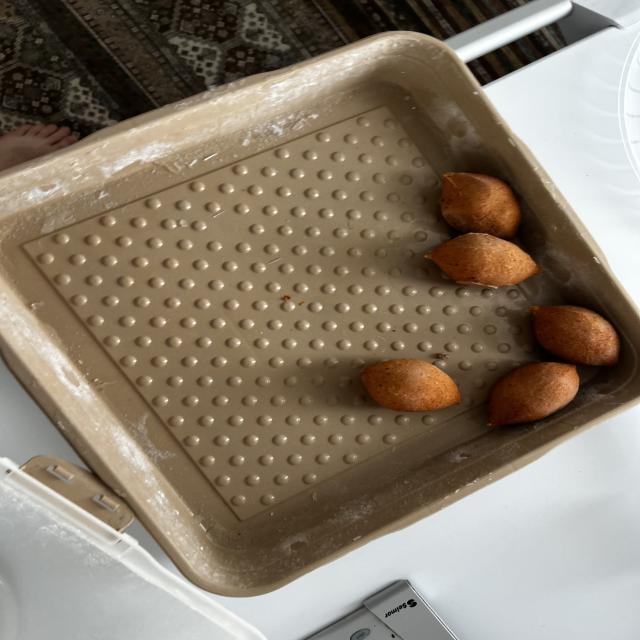kobi: (524, 296, 626, 368), (481, 362, 580, 429), (423, 233, 545, 287), (355, 358, 469, 409), (437, 170, 522, 236)
